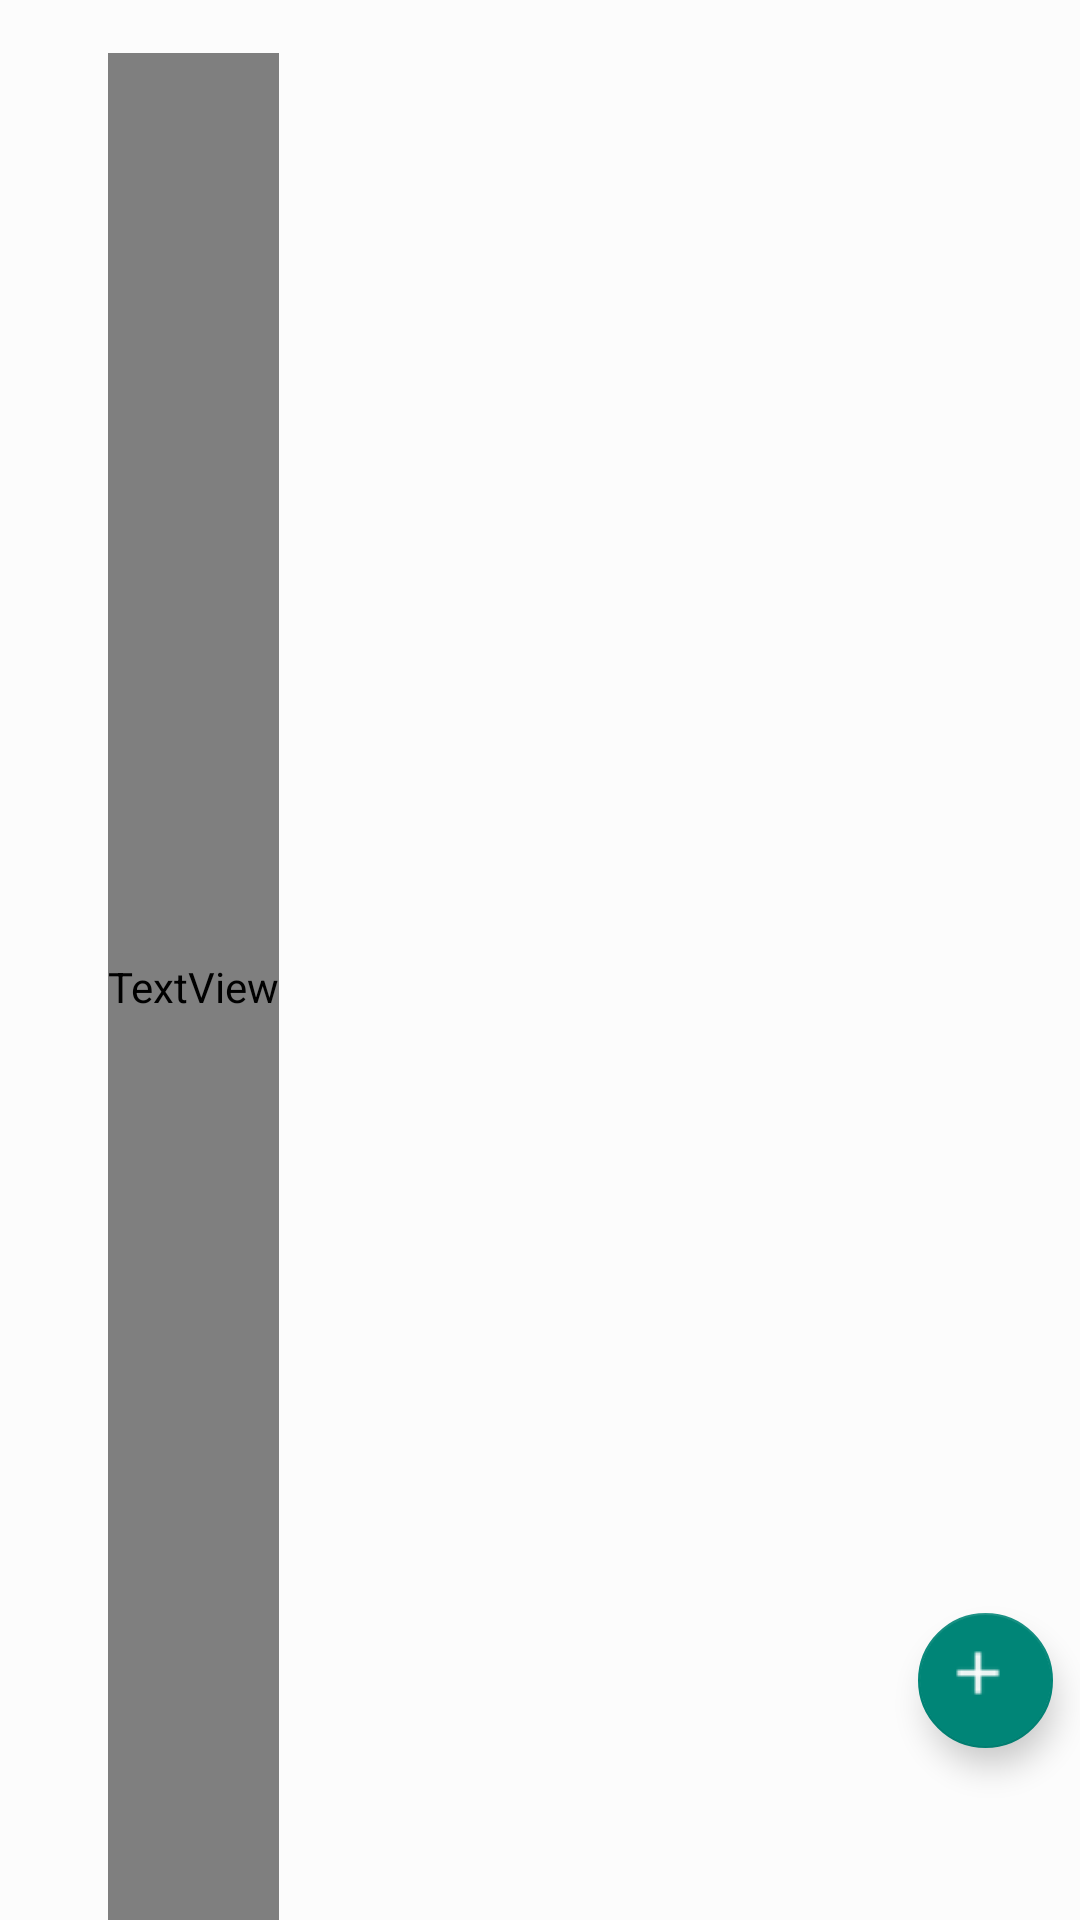

Locate icon controls on the screen. Image size 1080 x 1920, boxes as (x1, y1, x2, y2).
add: (918, 1613, 1053, 1748)
